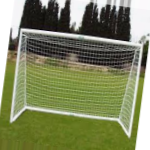goals: (10, 27, 143, 138)
